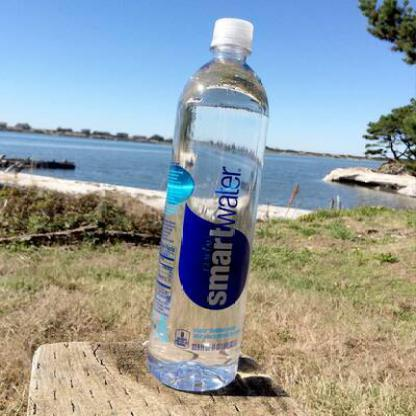plastic_bottle: (148, 13, 270, 389)
